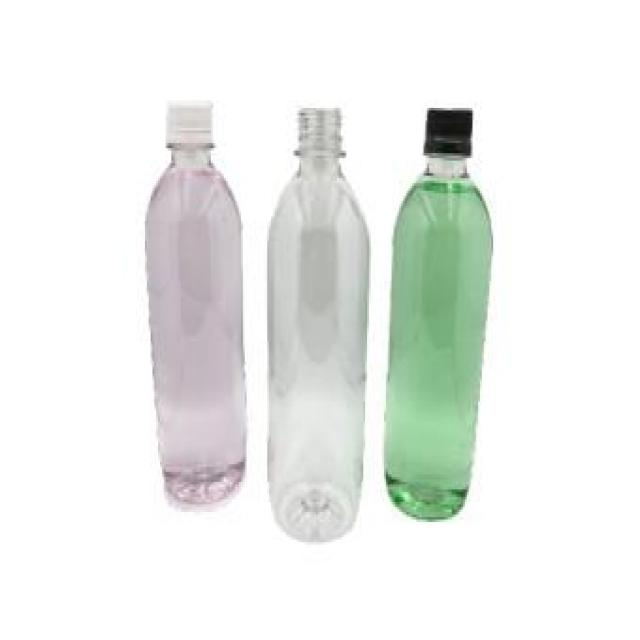bottle: (134, 82, 258, 536)
